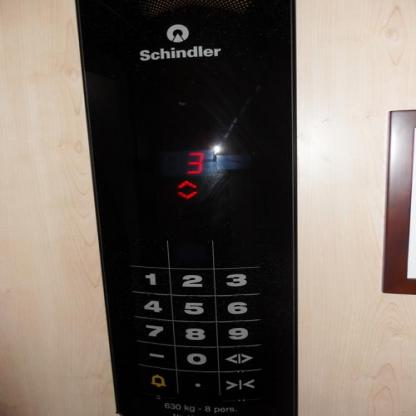-: (173, 368, 219, 396), (134, 340, 176, 369)
0: (171, 343, 218, 371)
1: (127, 265, 171, 293)
2: (168, 265, 215, 294)
3: (212, 266, 259, 294)
4: (130, 290, 171, 320)
5: (169, 293, 215, 321)
6: (214, 293, 260, 322)
7: (132, 316, 173, 344)
8: (171, 318, 216, 347)
9: (213, 319, 260, 346)
alarm: (136, 364, 177, 396)
close: (218, 370, 261, 397)
empty: (164, 238, 214, 269), (210, 238, 258, 270), (125, 237, 172, 268)
led: (126, 129, 256, 214)
open: (216, 345, 260, 371)
